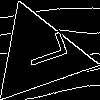L: (14, 30, 69, 72)
